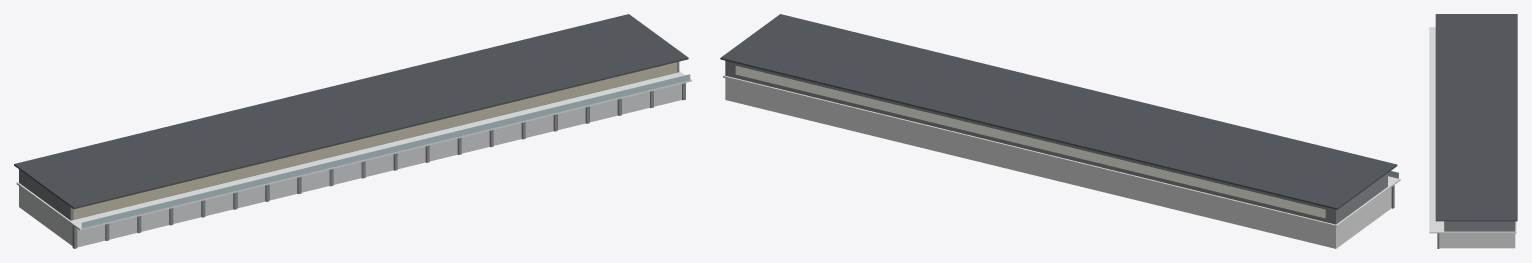
File: sil_national_pits_w.glb
The picture shows the model from 3 angles, left to right: view 1: azimuth 30°, elevation 25°; view 2: azimuth 150°, elevation 25°; view 3: azimuth 270°, elevation 25°; orthographic projection. The views are drawn at different scales.
Parts seen in each view (by area): view 1: silverstone-national-pits; view 2: silverstone-national-pits; view 3: silverstone-national-pits.
Part boxes in pixels (<box>): silverstone-national-pits: <box>14,14,691,248</box>; silverstone-national-pits: <box>720,14,1400,248</box>; silverstone-national-pits: <box>1429,14,1517,248</box>.
Size of the model in its own units: 120 by 7.9 by 21.7.
